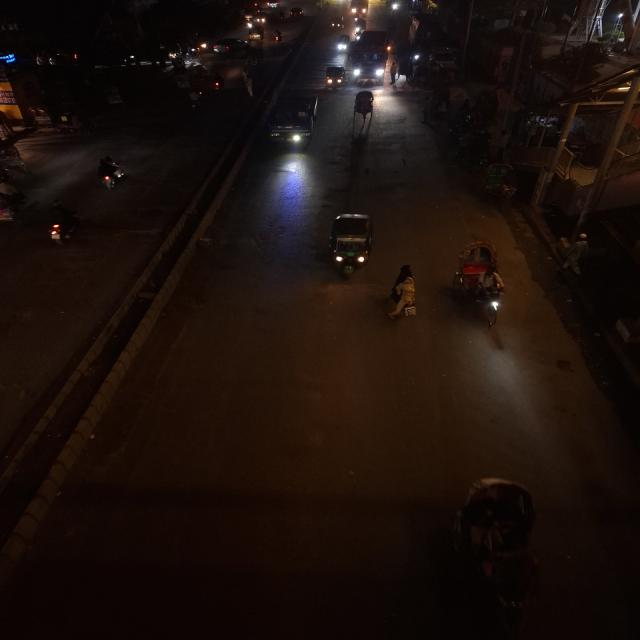bus: (350, 27, 394, 87)
car: (210, 36, 250, 56)
cng: (322, 211, 380, 281), (321, 62, 348, 94), (349, 0, 370, 17)
motorcycle: (42, 199, 85, 249), (90, 154, 130, 194), (351, 16, 366, 39), (271, 28, 283, 46)
pedestrian: (385, 262, 421, 324), (240, 75, 256, 100)
pickup_van: (263, 91, 322, 151)
rickshaw: (444, 471, 552, 637), (450, 238, 509, 332), (476, 160, 528, 212), (27, 105, 92, 141), (0, 177, 30, 230), (349, 89, 380, 120)
